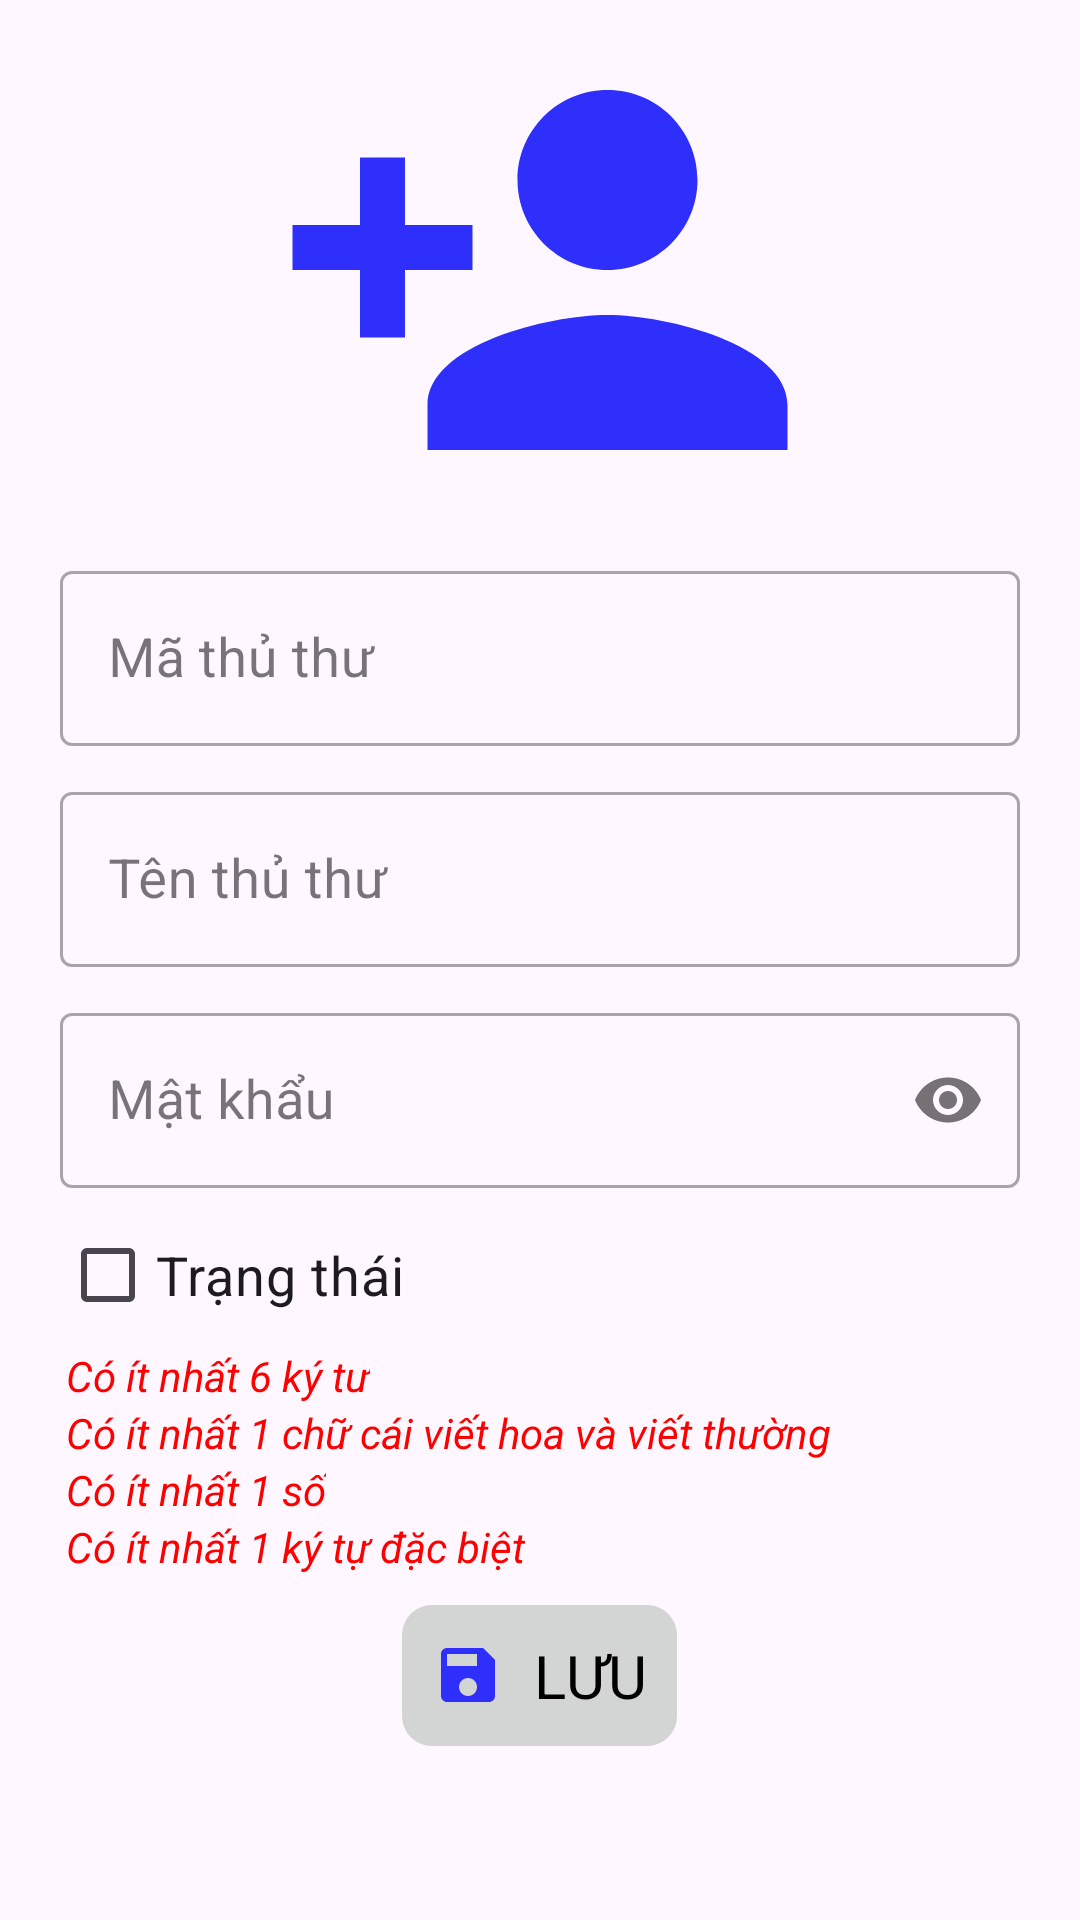

Icons on this 1080x1920 Android screen, each with the point to tap as (x=x, y=y):
save: (x=468, y=1675)
